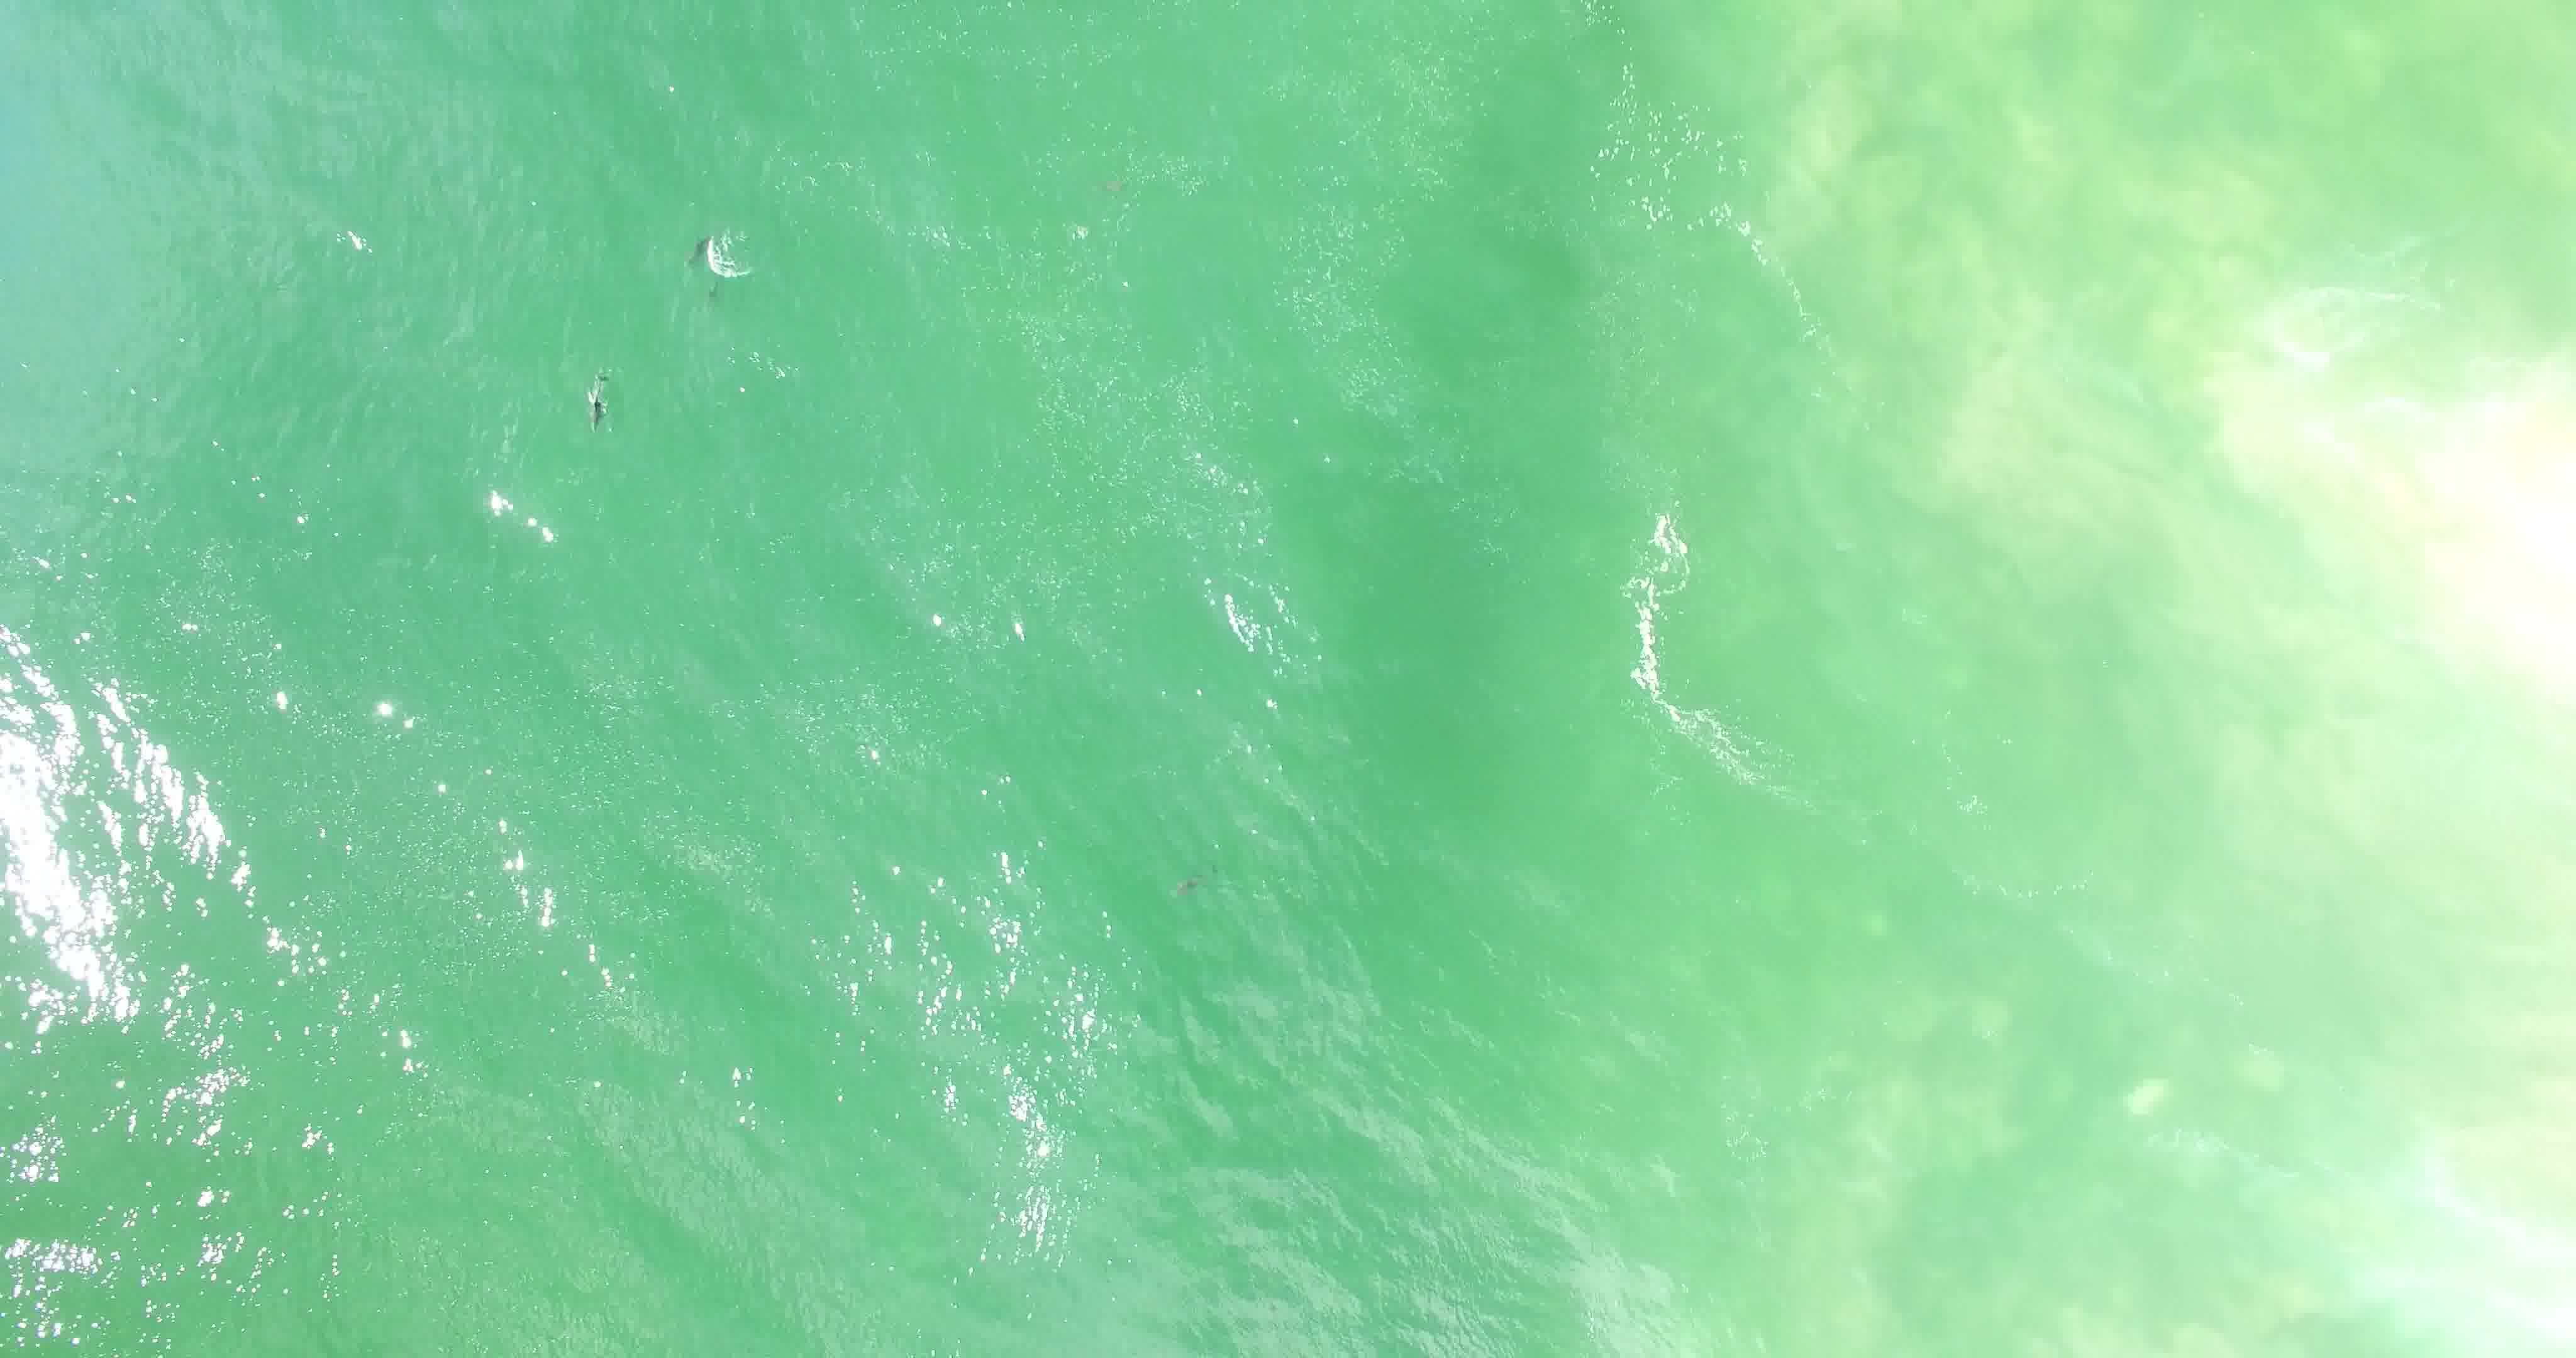dolphin: (1157, 840, 1225, 906), (574, 358, 617, 433), (678, 218, 716, 279)
